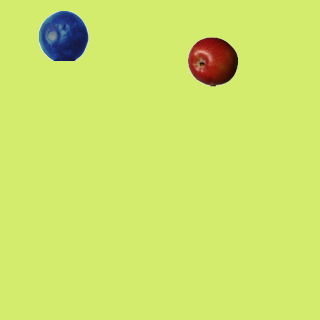Apple Braeburn: (187, 36, 237, 86)
Huckleberry: (38, 10, 88, 60)
